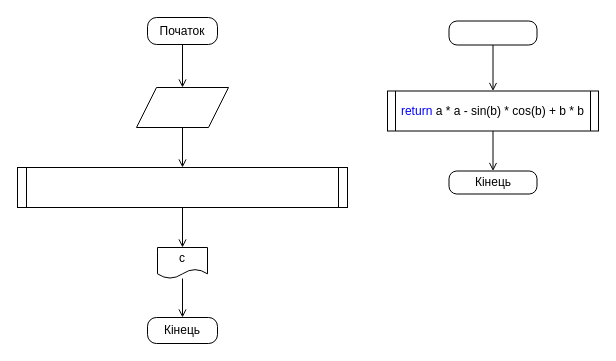
Some shapes in this 616 by 361 pixel diagram are drawn without their labels. Each missing label, with the centre of its shape:
a, b: (x=182, y=107)
c = (h(1, s * t) + pow(h(t + s, 1), 2)) / (1 + pow(h(s, t), 3)): (x=182, y=187)
h(a, b): (x=492, y=32)
